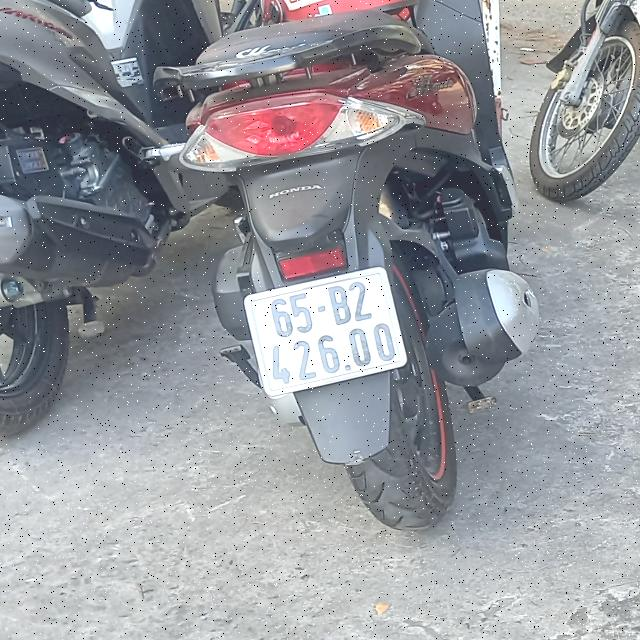0: (371, 322, 395, 363), (348, 326, 372, 366)
2: (348, 280, 373, 322), (293, 340, 317, 380)
4: (270, 344, 291, 384)
5: (290, 292, 314, 332)
6: (317, 333, 342, 376), (268, 297, 292, 337)
B: (327, 285, 352, 326)
